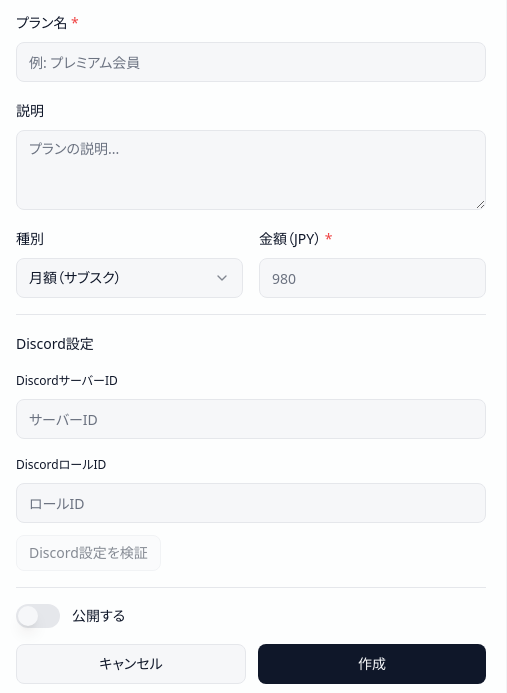
Scenario: SellerPlanDetail › validates required fields on save
The width and height of the screenshot is (507, 693).
(page scrolled)
Click the button "作成": (372, 664) [258, 644, 486, 684]
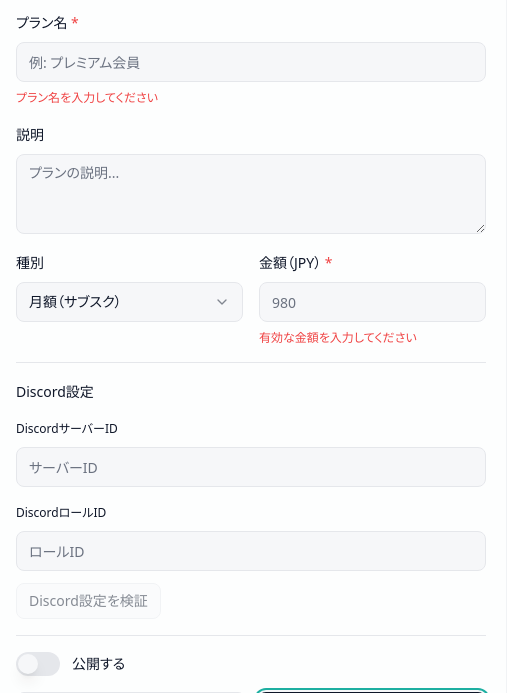
Now the text "プラン名を入力してください" is shown, box [16, 89, 158, 106]
Now the text "有効な金額を入力してください" is shown, box [259, 329, 417, 346]
